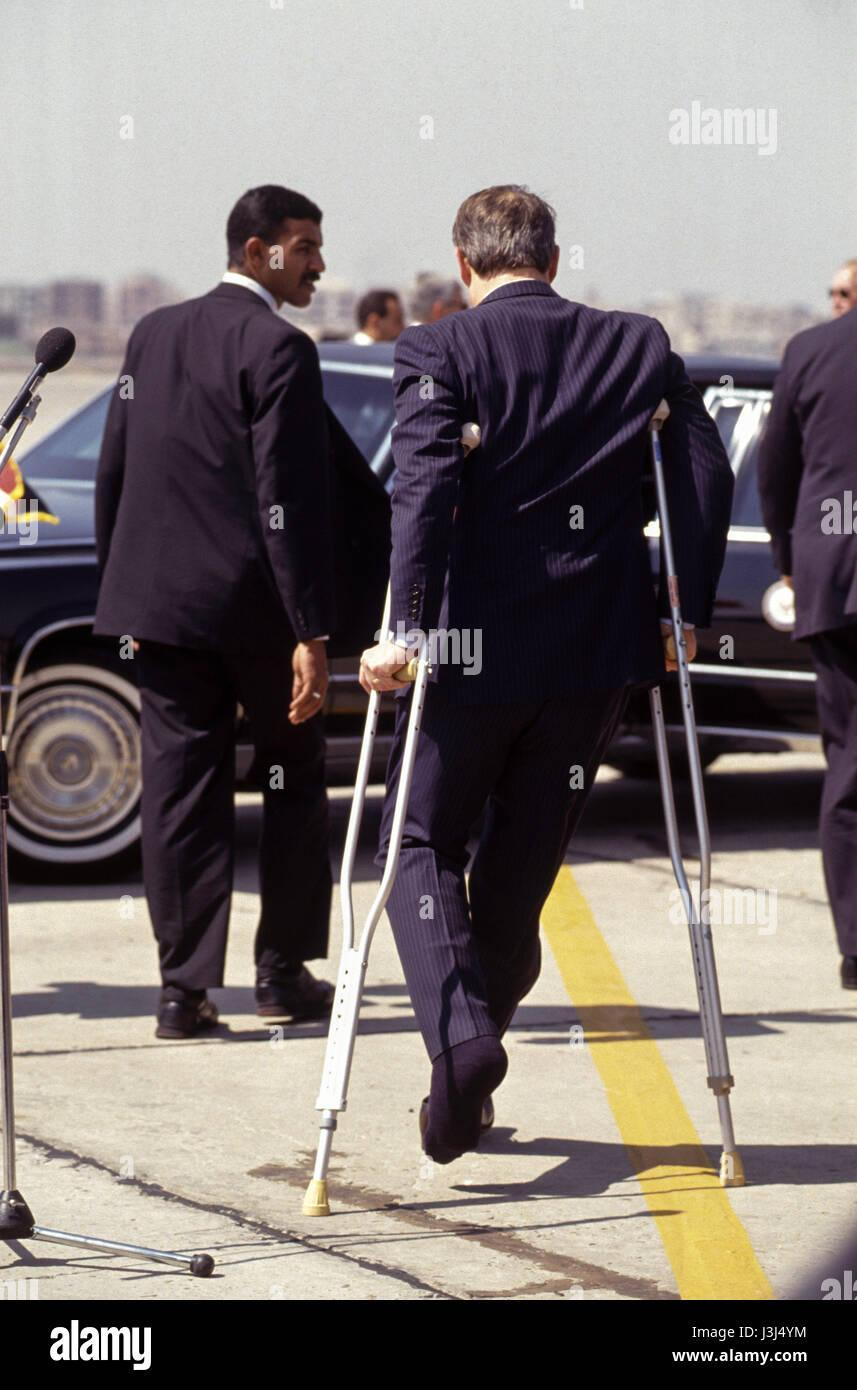crutches: (294, 150, 746, 1246)
